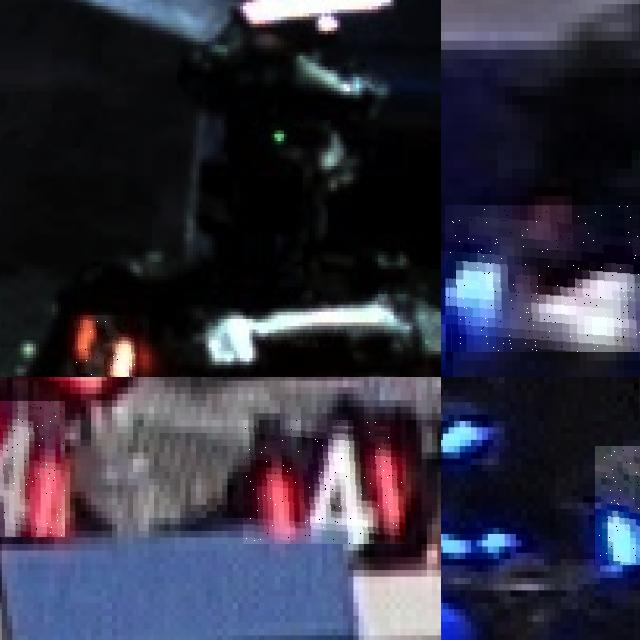B1: (594, 446, 640, 565)
B4: (445, 205, 640, 351)
R4: (243, 420, 406, 544), (0, 400, 65, 537)
Rs: (67, 315, 136, 377)
